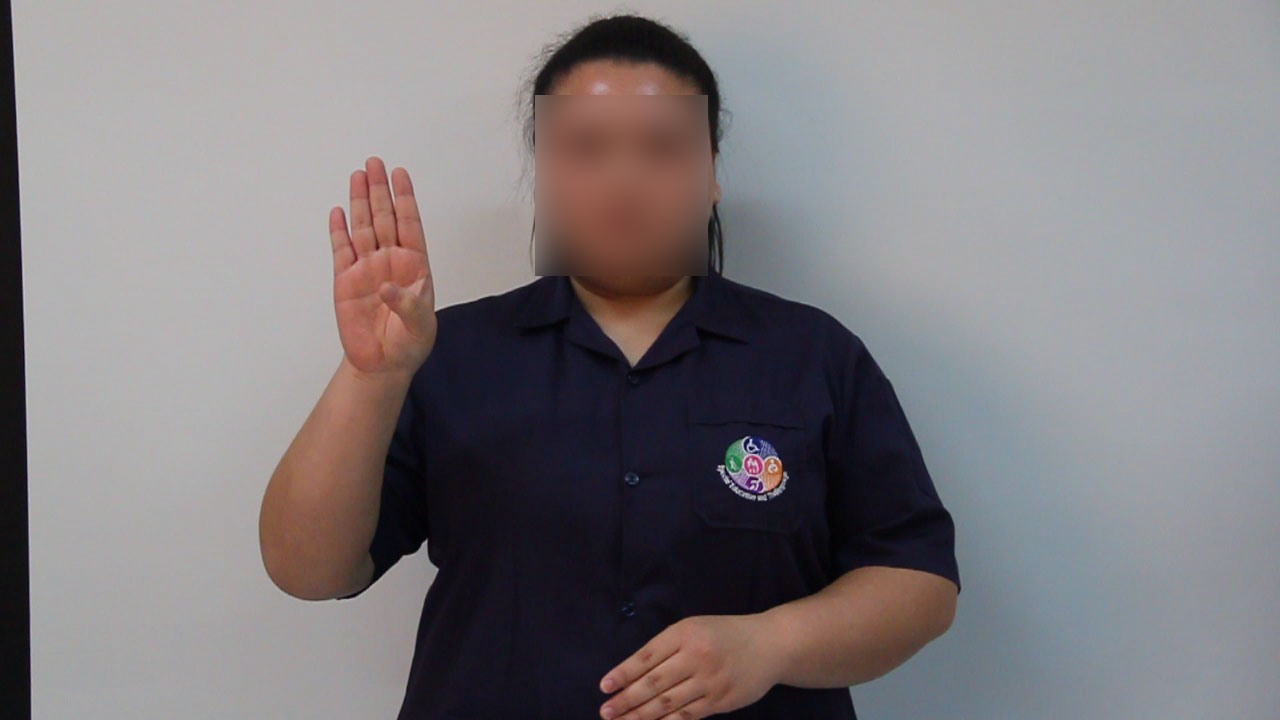bor: (306, 140, 457, 394)
